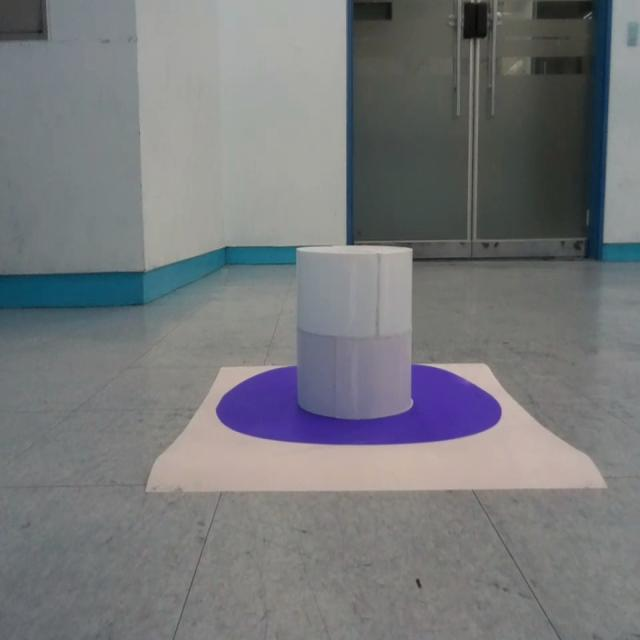cylinder: (295, 246, 414, 422)
